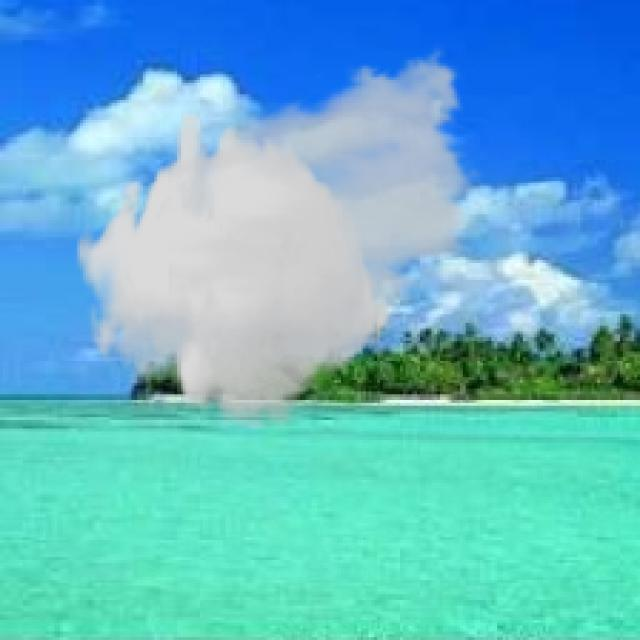Smoke: (74, 40, 486, 429)
